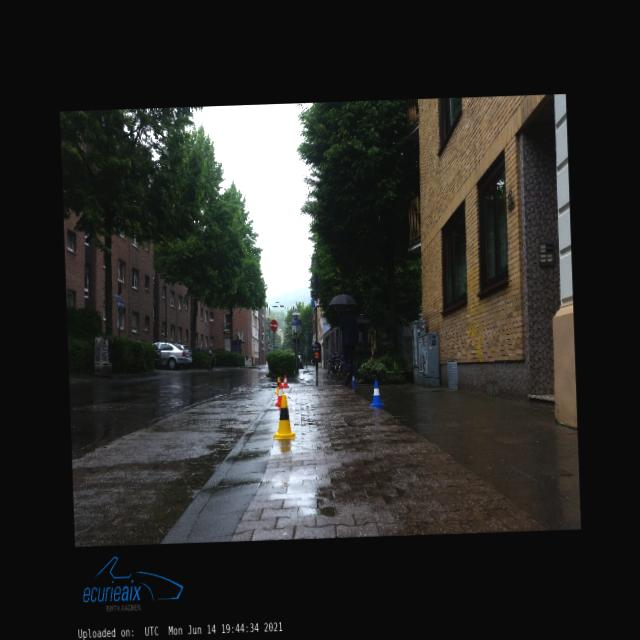blue_cone: (369, 380, 384, 406), (350, 372, 356, 384)
orange_cone: (274, 381, 283, 406), (282, 375, 288, 387)
yellow_cone: (272, 394, 296, 439), (274, 377, 280, 392)
